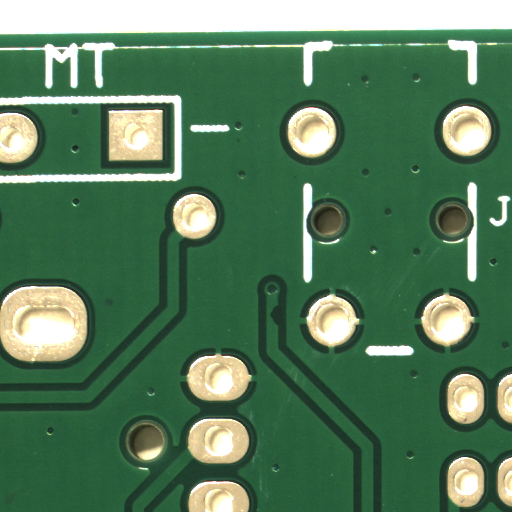Mouse_bite: (274, 315, 284, 336)
